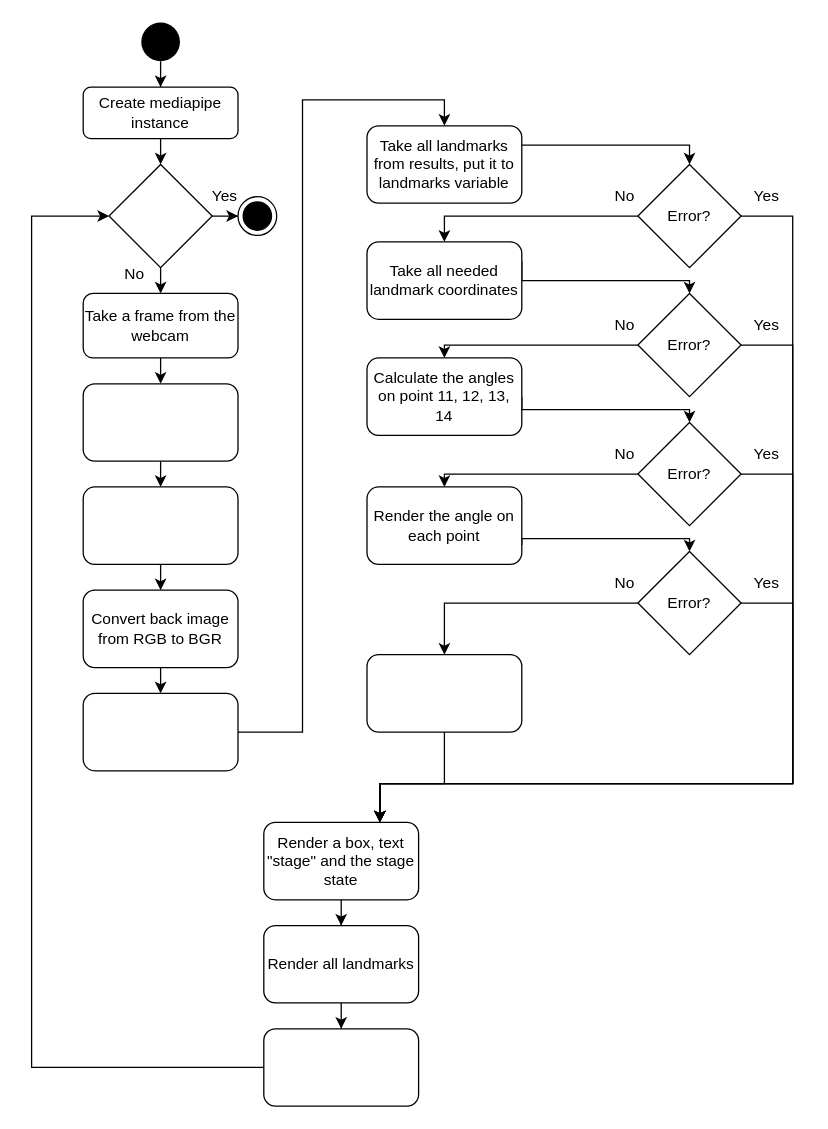
This 828x1129 diagram has some shape labels left out. The box of each missing label's shape, as (x1, y1, x2, y2) in pixels:
Change the state according to the logic and angles: (366, 653, 522, 732)
Convert the frame from BGR to RGB, put it on image variable: (82, 382, 238, 461)
Handle the landmarks: (82, 692, 238, 771)
Is Q button pressed?: (108, 163, 212, 268)
Process and detect the skeleton from image, put in on results: (82, 486, 238, 564)
Show it on a window: (263, 1027, 419, 1106)
